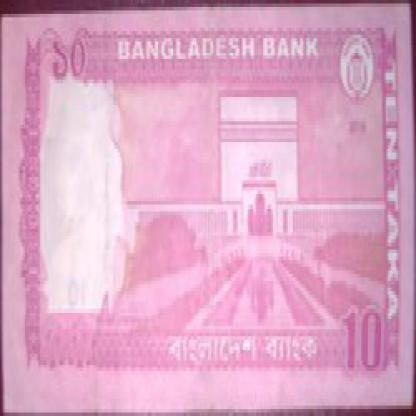Ten Taka: (340, 278, 384, 382), (36, 35, 102, 94)
